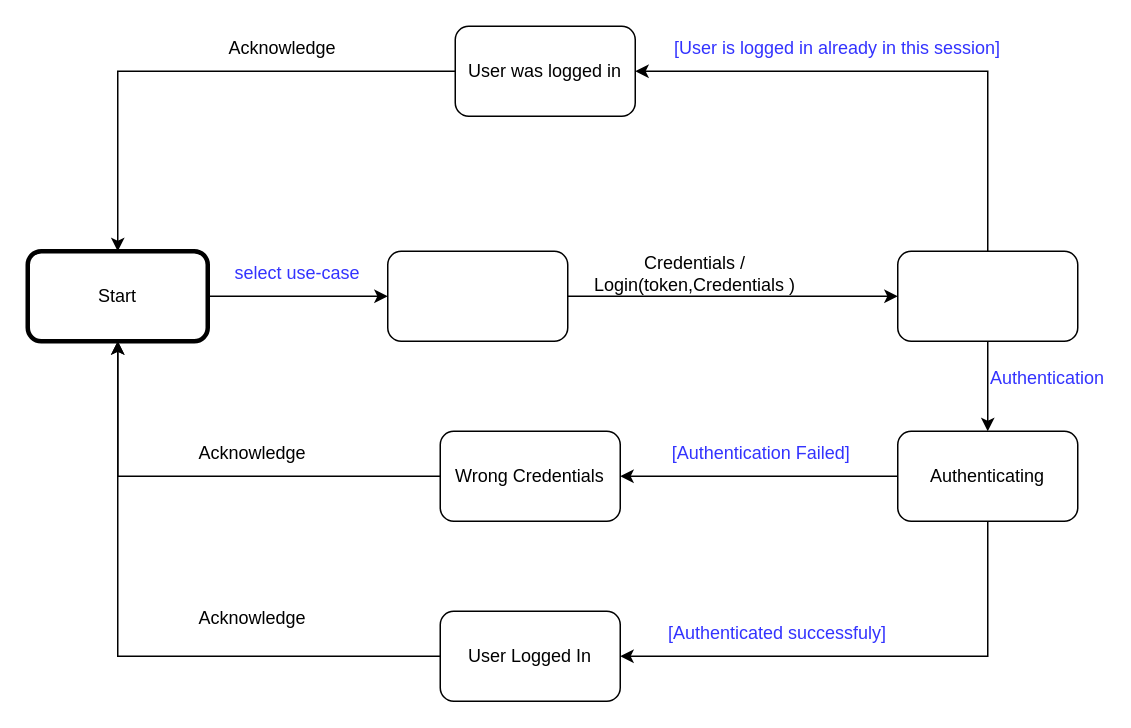
The diagram is 1131 pixels wide and 728 high, and some of its shapes have lost their labels. The centre of each missing label's shape, as x and y in pixels:
Logging In: [987,295]
Wait for use-case selection: [477,295]
